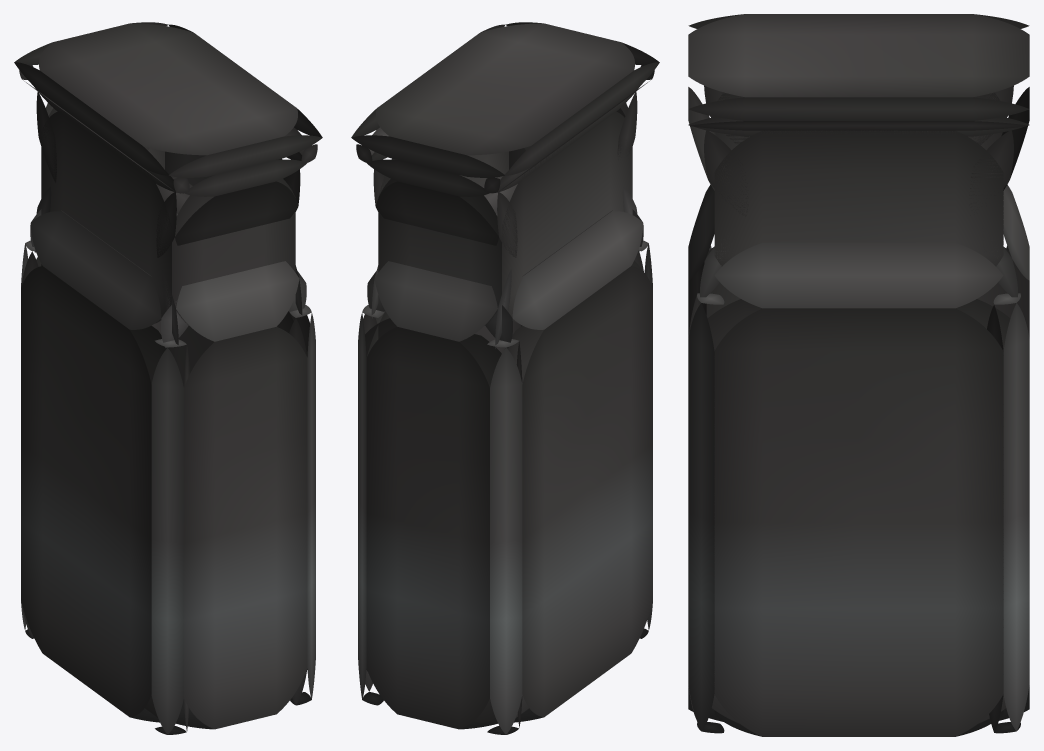
The model's file is udp_9_grip_tactical.fbx.
The picture shows the model from 3 angles, left to right: view 1: azimuth 30°, elevation 25°; view 2: azimuth 150°, elevation 25°; view 3: azimuth 270°, elevation 25°; orthographic projection. The views are drawn at different scales.
Visible parts, largest first — view 1: cube_7, cube_14, cube_2, cube_3, cube_9, cube_13, cube_16, cube_6, cube_8, cube_4, cube_5, cube_12 (+2 smaller); view 2: cube_7, cube_14, cube_2, cube_3, cube_11, cube_13, cube_15, cube_5, cube_10, cube_4, cube_6, cube_12 (+2 smaller); view 3: cube_7, cube_2, cube_3, cube_12, cube_10, cube_8, cube_14, cube, cube_6, cube_5, cube_16, cube_15 (+1 smaller).
Boxes of the visible parts, x1,y1,x2,y2 form: cube_7: (21, 260, 310, 722); cube_14: (36, 257, 307, 729); cube_2: (14, 22, 322, 177); cube_3: (41, 108, 295, 325); cube_9: (151, 339, 189, 734); cube_13: (30, 209, 188, 347); cube_16: (162, 261, 302, 348); cube_6: (156, 169, 300, 257); cube_8: (289, 305, 315, 705); cube_4: (34, 87, 306, 196); cube_5: (36, 91, 149, 182); cube_12: (156, 176, 306, 311); cube_7: (365, 266, 652, 723); cube_14: (366, 260, 642, 729); cube_2: (351, 22, 659, 177); cube_3: (378, 108, 632, 325); cube_11: (487, 339, 522, 734); cube_13: (485, 209, 643, 347); cube_15: (371, 261, 511, 348); cube_5: (373, 169, 517, 257); cube_10: (358, 305, 384, 705); cube_4: (367, 87, 639, 196); cube_6: (524, 91, 637, 159); cube_12: (367, 176, 517, 311); cube_7: (714, 308, 1003, 736); cube_2: (688, 14, 1029, 120); cube_3: (714, 92, 1003, 266); cube_12: (714, 242, 1003, 308); cube_10: (987, 293, 1029, 733); cube_8: (688, 293, 724, 733); cube_14: (688, 247, 1029, 723); cube: (688, 121, 1029, 130); cube_6: (688, 85, 748, 216); cube_5: (969, 85, 1029, 203); cube_16: (688, 184, 734, 297); cube_15: (982, 184, 1029, 297).
Size of the model in its own units: 6.25 by 20.9 by 10.16.
Materials: 1 (1 with a texture image).
